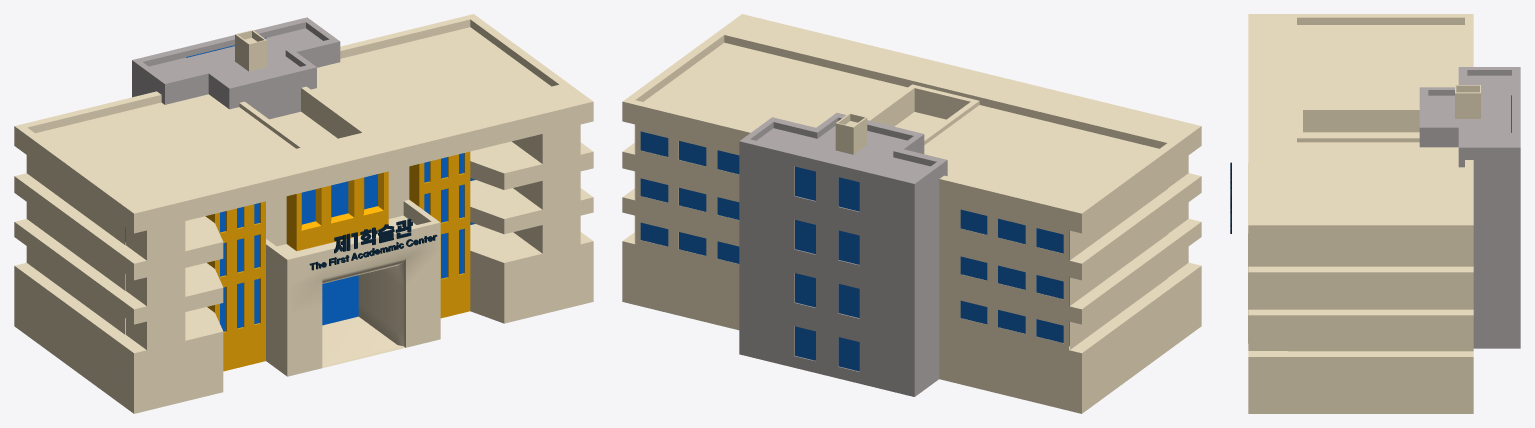
Rendered from 제1학술관.fbx.
3 views of the same model, side by side, from view 1: azimuth 30°, elevation 25°; view 2: azimuth 150°, elevation 25°; view 3: azimuth 270°, elevation 25° (orthographic). The views are drawn at different scales.
Visible parts, largest first — view 1: Cube_6, Cube_1, Cube_10, Cube_110, Cube_112, Cube_109, Cube_111, Cube_14, Extrude_1, Extrude; view 2: Cube_6, Cube_10, Cube_1, Cube_7, Cube_8, Cube_9, Cube_14; view 3: Cube_6, Cube_10, Cube_1, Cube_14.
Boxes of the visible parts, bbox=[...] form: Cube_6: bbox=[14, 14, 593, 413]; Cube_1: bbox=[133, 18, 340, 119]; Cube_10: bbox=[132, 17, 338, 108]; Cube_110: bbox=[220, 203, 259, 331]; Cube_112: bbox=[322, 275, 358, 325]; Cube_109: bbox=[424, 153, 464, 278]; Cube_111: bbox=[302, 174, 377, 224]; Cube_14: bbox=[235, 30, 266, 71]; Extrude_1: bbox=[334, 218, 412, 253]; Extrude: bbox=[309, 234, 437, 270]; Cube_6: bbox=[622, 14, 1201, 413]; Cube_10: bbox=[739, 113, 946, 396]; Cube_1: bbox=[742, 113, 947, 395]; Cube_7: bbox=[795, 166, 859, 371]; Cube_8: bbox=[960, 209, 1069, 345]; Cube_9: bbox=[640, 131, 739, 263]; Cube_14: bbox=[835, 113, 867, 154]; Cube_6: bbox=[1248, 14, 1473, 413]; Cube_10: bbox=[1421, 67, 1520, 348]; Cube_1: bbox=[1419, 67, 1518, 348]; Cube_14: bbox=[1455, 85, 1480, 118].
Size of the model in its own units: 563 by 279 by 327.
